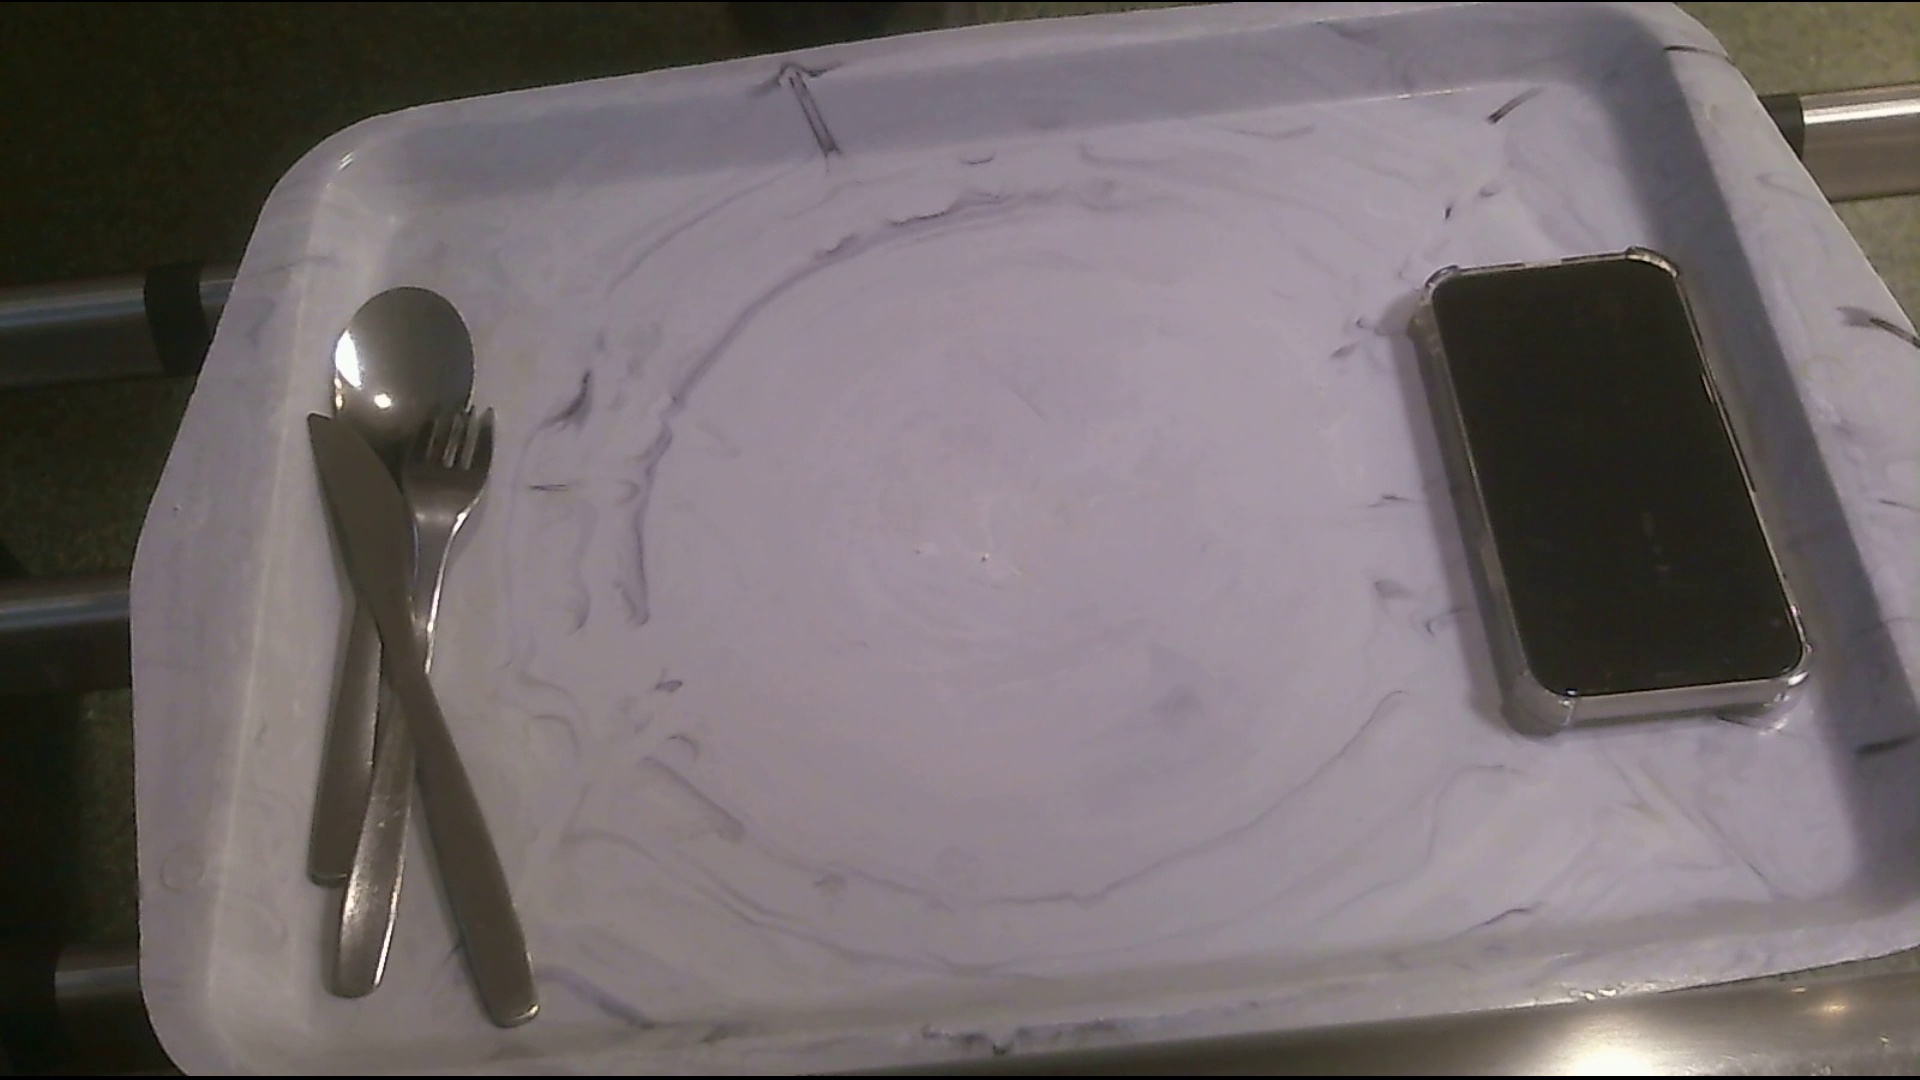cutlery: (305, 287, 553, 1026)
other: (1425, 249, 1817, 731)
